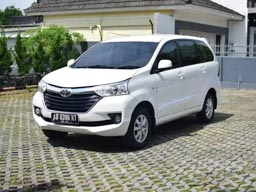plat: (49, 110, 81, 124)
